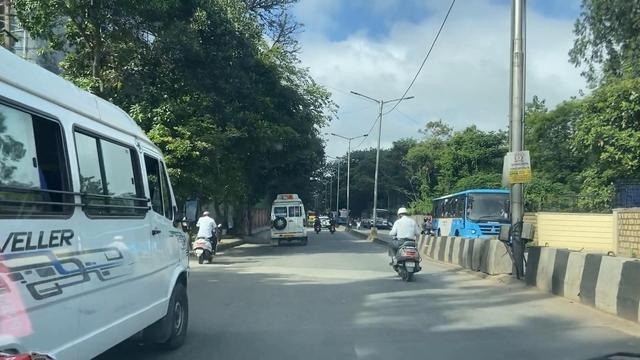HMV: (2, 58, 180, 358), (273, 192, 310, 249)
LMV: (387, 209, 423, 290), (201, 209, 224, 265)
